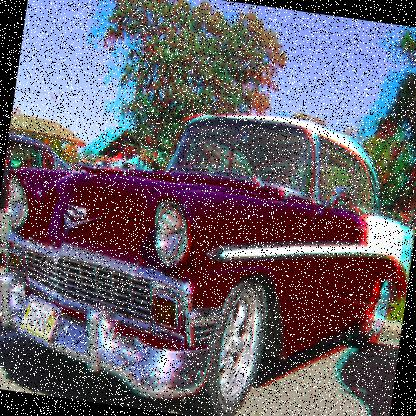Car: (0, 88, 413, 415), (0, 133, 76, 264)
